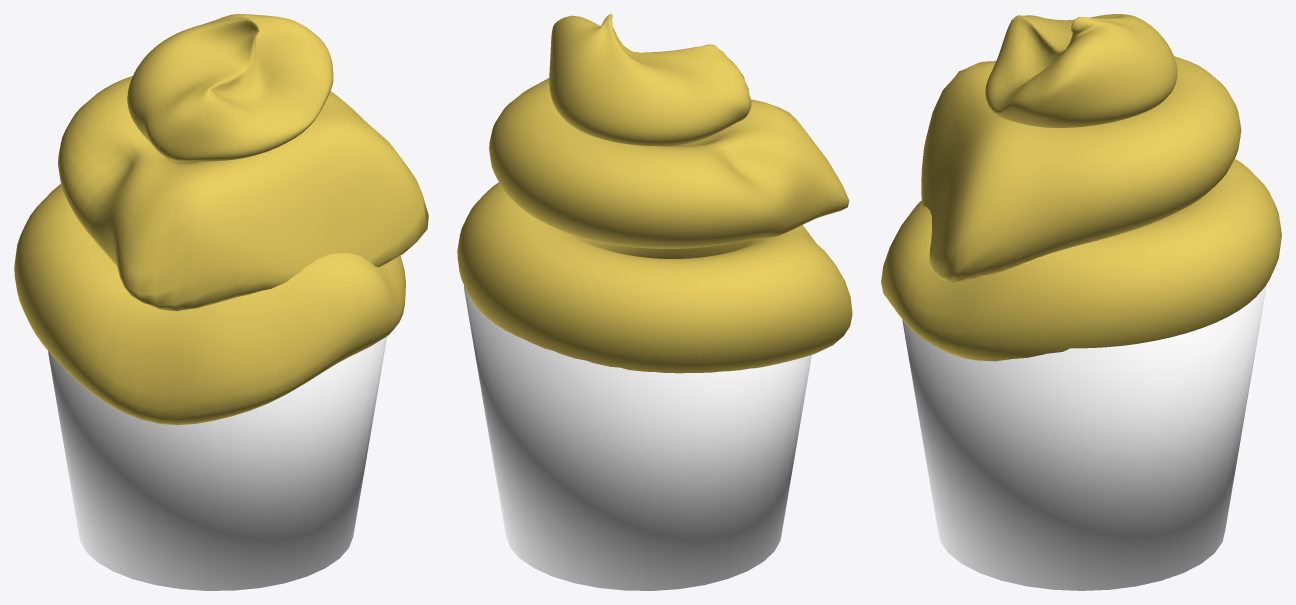
File: mango_poor.glb
The picture shows the model from 3 angles, left to right: view 1: azimuth 30°, elevation 25°; view 2: azimuth 150°, elevation 25°; view 3: azimuth 270°, elevation 25°; orthographic projection. The views are drawn at different scales.
Parts seen in each view (by area): view 1: 圓柱體, 環體.001, 環體, 球體; view 2: 圓柱體, 環體, 環體.001, 球體; view 3: 圓柱體, 環體.001, 環體, 球體.
Part boxes in pixels (x1,y1,x2,y2): 圓柱體: (48, 336, 386, 590); 環體.001: (58, 76, 428, 311); 環體: (14, 184, 405, 425); 球體: (127, 14, 333, 161); 圓柱體: (464, 285, 811, 590); 環體: (457, 182, 852, 373); 環體.001: (489, 78, 849, 248); 球體: (549, 14, 751, 146); 圓柱體: (902, 284, 1266, 590); 環體.001: (921, 56, 1241, 283); 環體: (881, 159, 1281, 361); 球體: (985, 14, 1177, 127).
Bounding box in the file's own units: 3.01 × 4.28 × 2.94.
2 materials, 1 textured.
